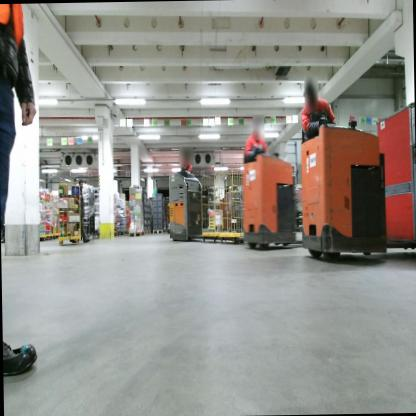pallet: (127, 228, 144, 237), (151, 229, 165, 234), (121, 227, 128, 236), (144, 228, 148, 237), (147, 227, 151, 235)
pallet_truck: (294, 109, 416, 264), (238, 141, 312, 254), (161, 162, 246, 248)
